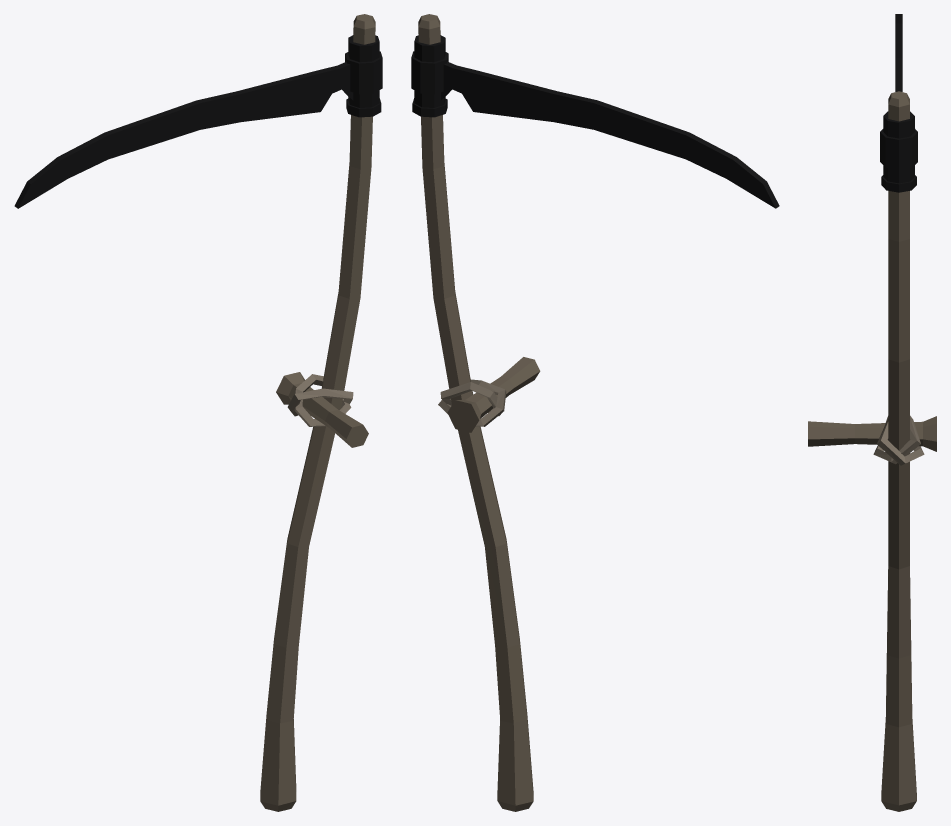
Rendered from scythe.glb.
The picture shows the model from 3 angles, left to right: view 1: azimuth 30°, elevation 25°; view 2: azimuth 150°, elevation 25°; view 3: azimuth 270°, elevation 25°; orthographic projection. The views are drawn at different scales.
Visible parts, largest first — view 1: Scythe; view 2: Scythe; view 3: Scythe.
Part boxes in pixels (left/top/right/bottom): Scythe: left=14, top=14, right=382, bottom=811; Scythe: left=411, top=14, right=779, bottom=811; Scythe: left=808, top=14, right=936, bottom=811.
Size of the model in its own units: 0.8299 by 1.67 by 0.2592.
Materials: 1 (1 with a texture image).
